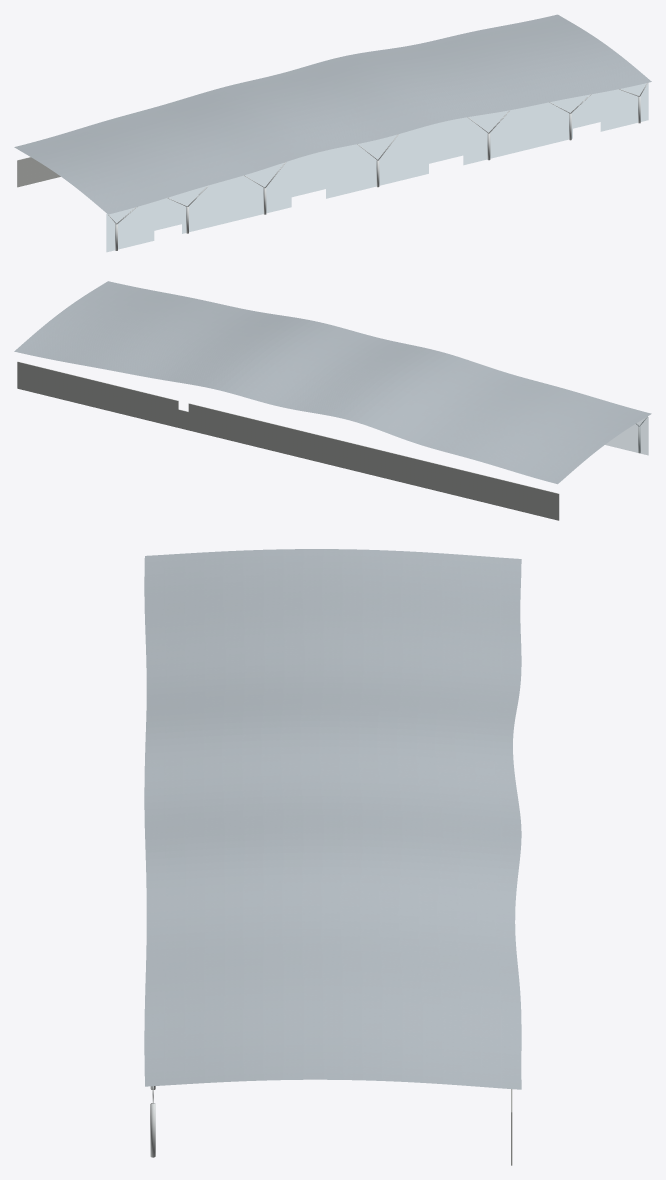
File: AIR01_hlod.glb
3 renders of one model, top to bottom at view 1: azimuth 30°, elevation 25°; view 2: azimuth 150°, elevation 25°; view 3: azimuth 270°, elevation 25°, orthographic. The views are drawn at different scales.
Visible parts, largest first — view 1: Roof__HLOD_sculpted_pavilion_roof__roof_pale, Facade__HLOD_glass_curtain__glass_tinted, Structure__HLOD_Y_column_silhouette__col_white, Facade__HLOD_opaque_lower_service_wall__cladding_light; view 2: Roof__HLOD_sculpted_pavilion_roof__roof_pale, Facade__HLOD_opaque_lower_service_wall__cladding_light, Facade__HLOD_glass_curtain__glass_tinted; view 3: Roof__HLOD_sculpted_pavilion_roof__roof_pale.
Boxes of the visible parts, bbox=[...] form: Roof__HLOD_sculpted_pavilion_roof__roof_pale: bbox=[14, 14, 651, 214]; Facade__HLOD_glass_curtain__glass_tinted: bbox=[106, 83, 648, 251]; Structure__HLOD_Y_column_silhouette__col_white: bbox=[108, 83, 647, 250]; Facade__HLOD_opaque_lower_service_wall__cladding_light: bbox=[17, 157, 60, 187]; Roof__HLOD_sculpted_pavilion_roof__roof_pale: bbox=[14, 281, 651, 484]; Facade__HLOD_opaque_lower_service_wall__cladding_light: bbox=[17, 361, 559, 520]; Facade__HLOD_glass_curtain__glass_tinted: bbox=[605, 417, 648, 454]; Roof__HLOD_sculpted_pavilion_roof__roof_pale: bbox=[144, 549, 521, 1089].
Bounding box in the file's own units: 260 × 24.78 × 78.07.
4 materials, 3 textured.
